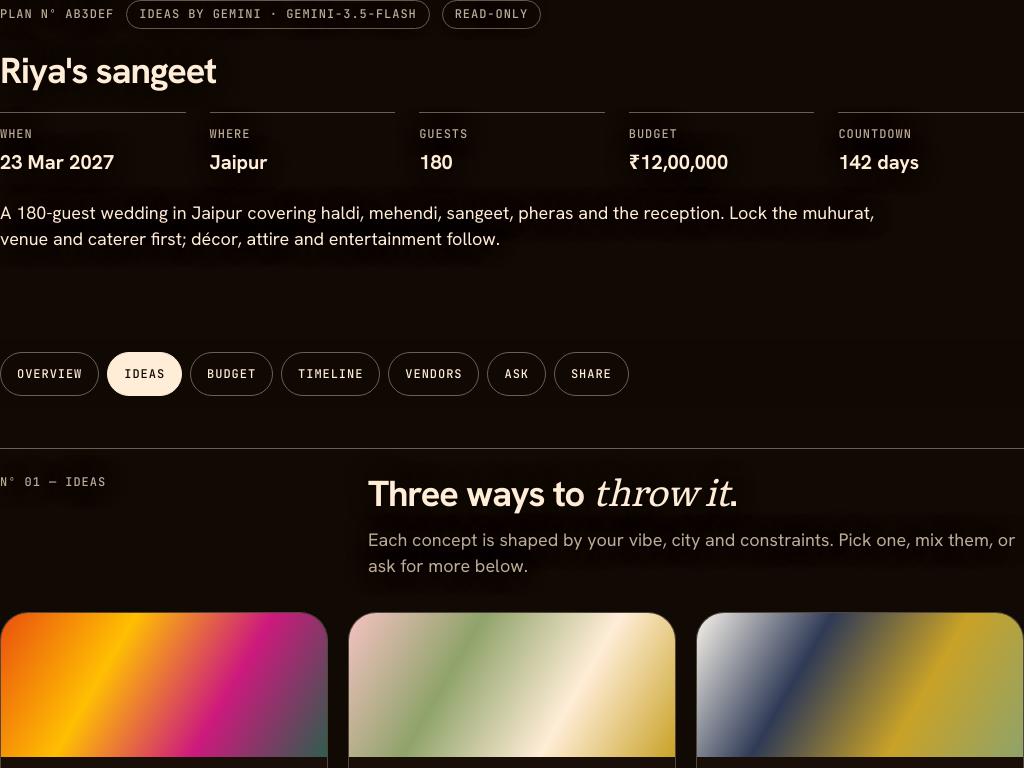
Test case: PlanView heading levels › on the share page (h1 title): chapters are h2 and a vendor card title is h3
Earlier steps of the test are not shown.
Click the tab "Budget": (232, 374) [190, 352, 273, 396]
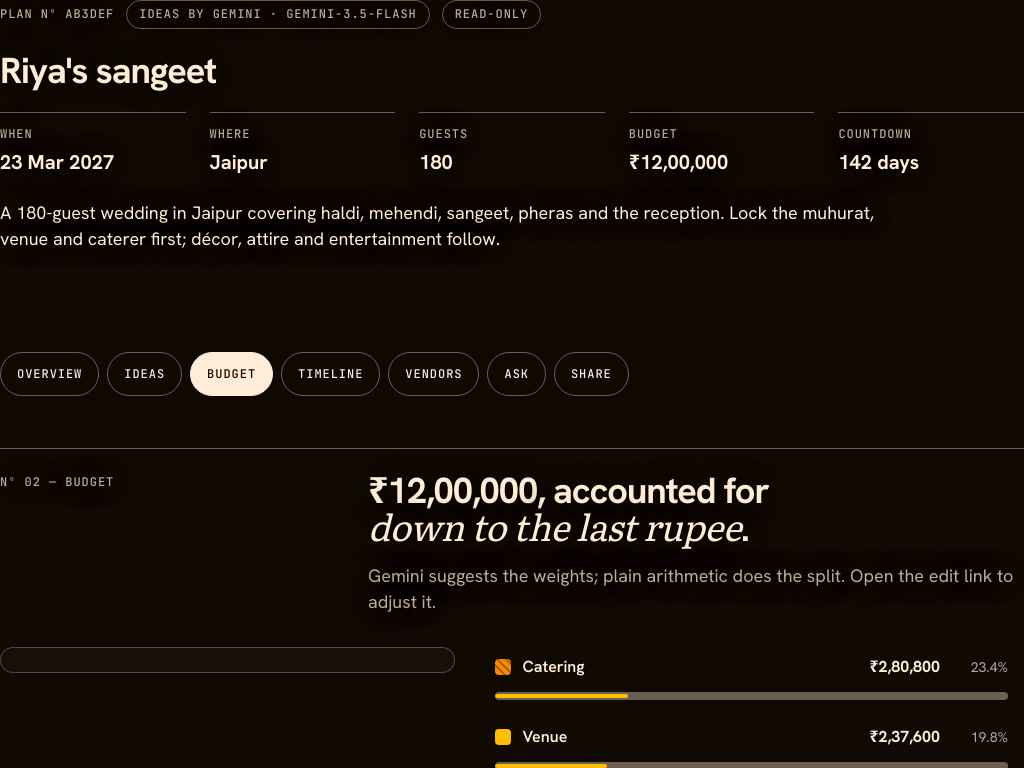
Click the tab "Timeline": (331, 374) [281, 352, 380, 396]
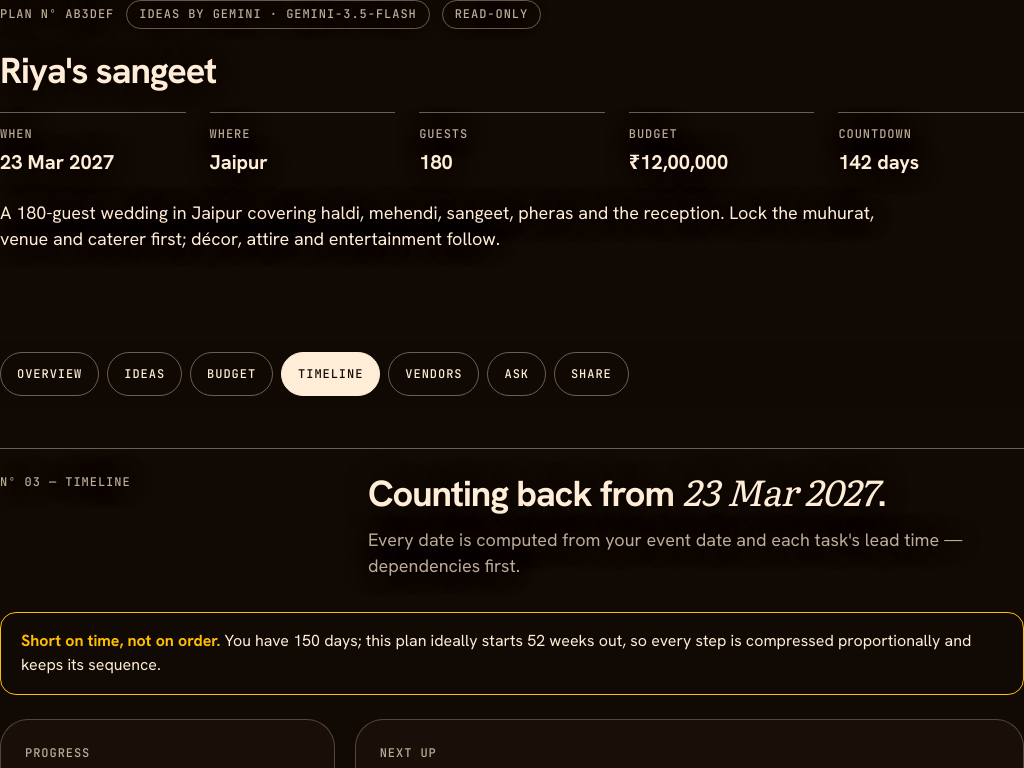
Click the tab "Vendors": (434, 374) [388, 352, 479, 396]
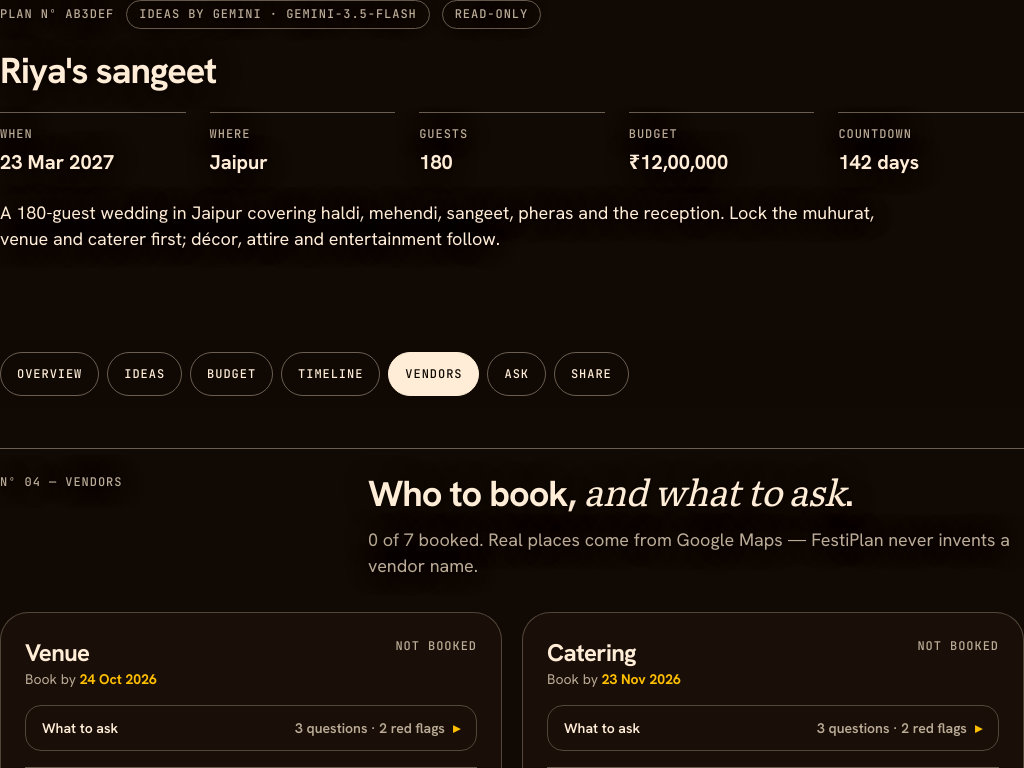
Click the tab "Ask": (517, 374) [488, 352, 546, 396]
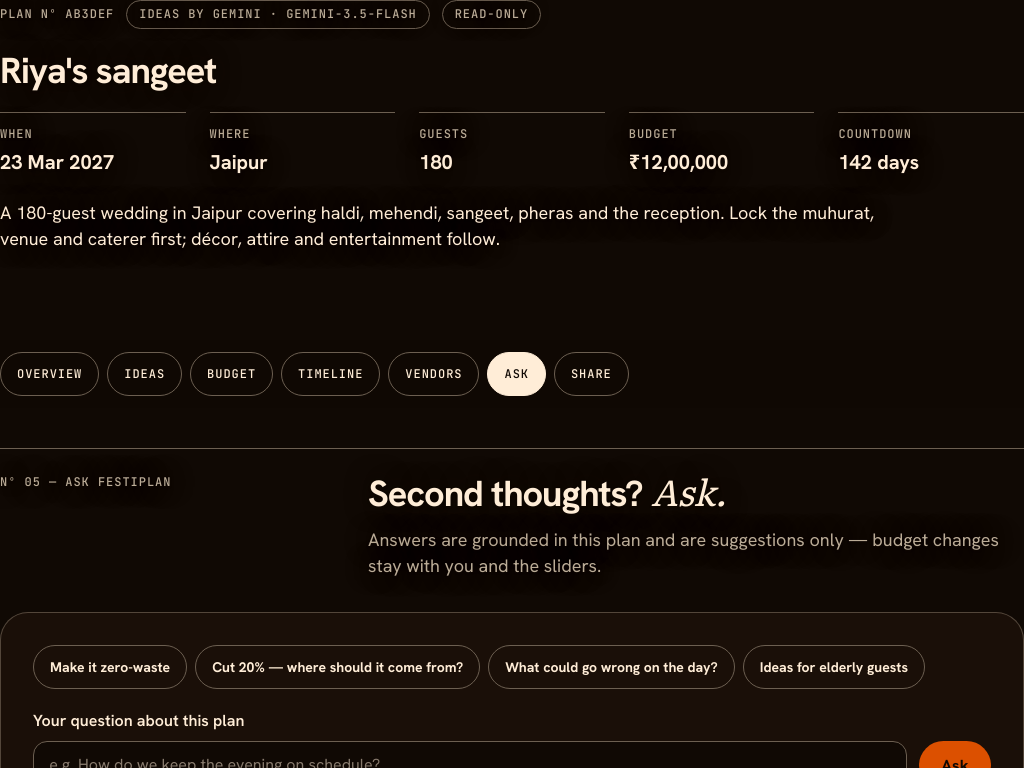
Click the tab "Share": (591, 374) [554, 352, 629, 396]
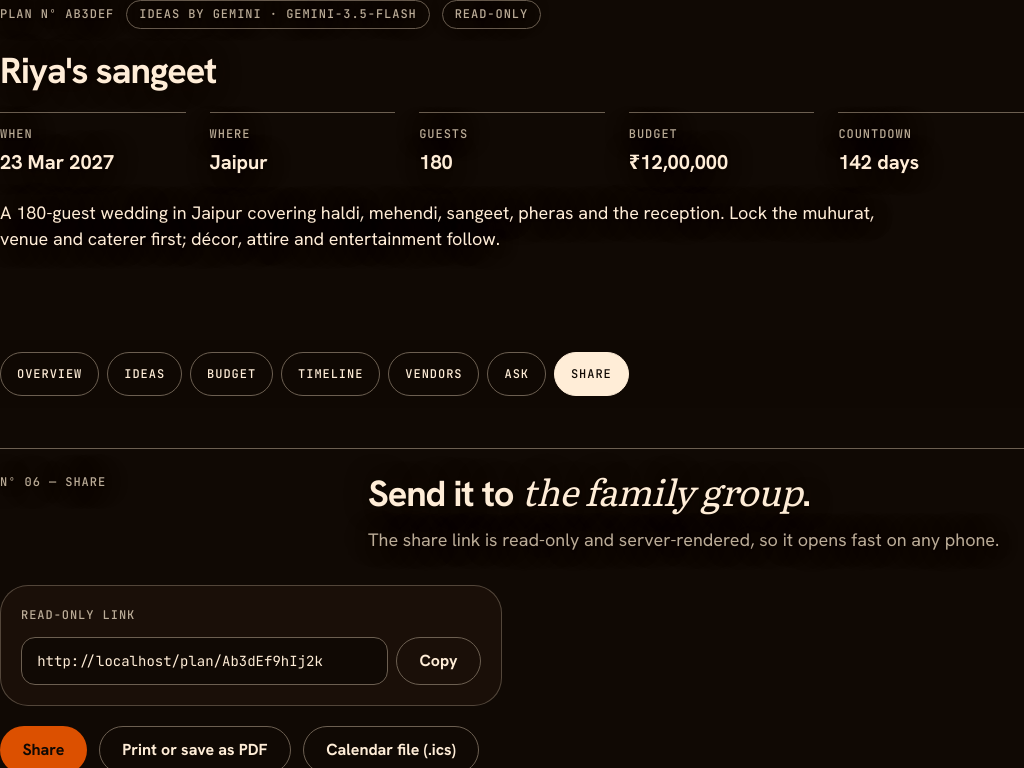
Click the tab "Vendors": (434, 374) [388, 352, 479, 396]
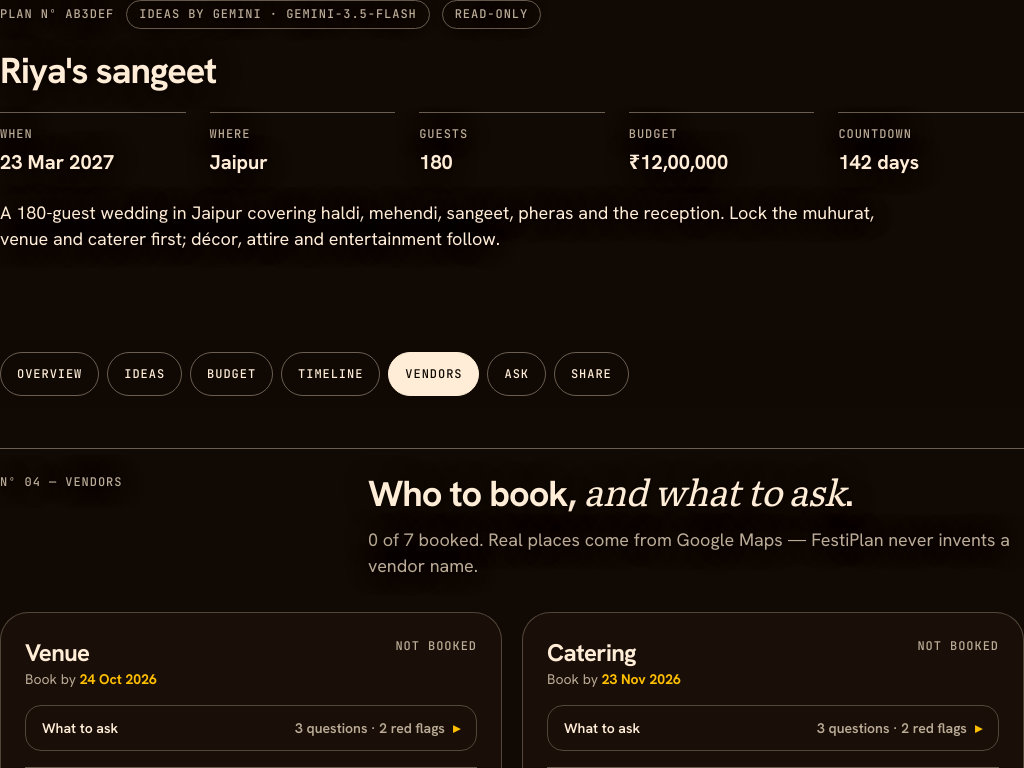
Expected: the heading "Venue" is shown, [25, 636, 90, 668]
